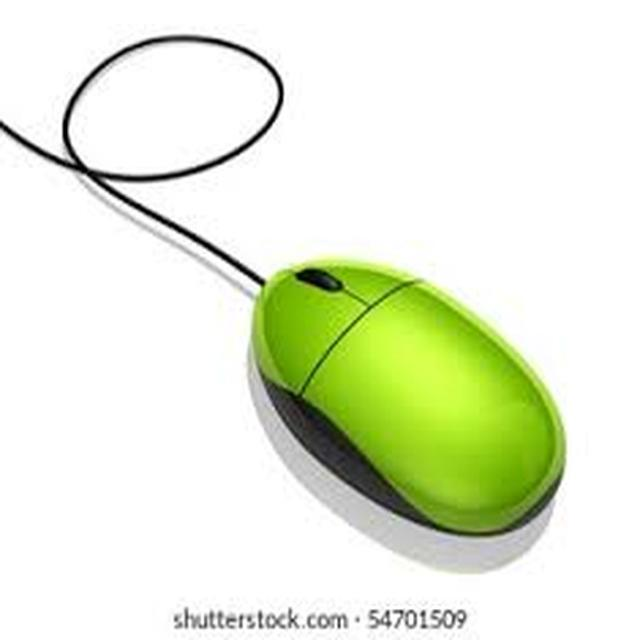mouse: (146, 205, 574, 567)
